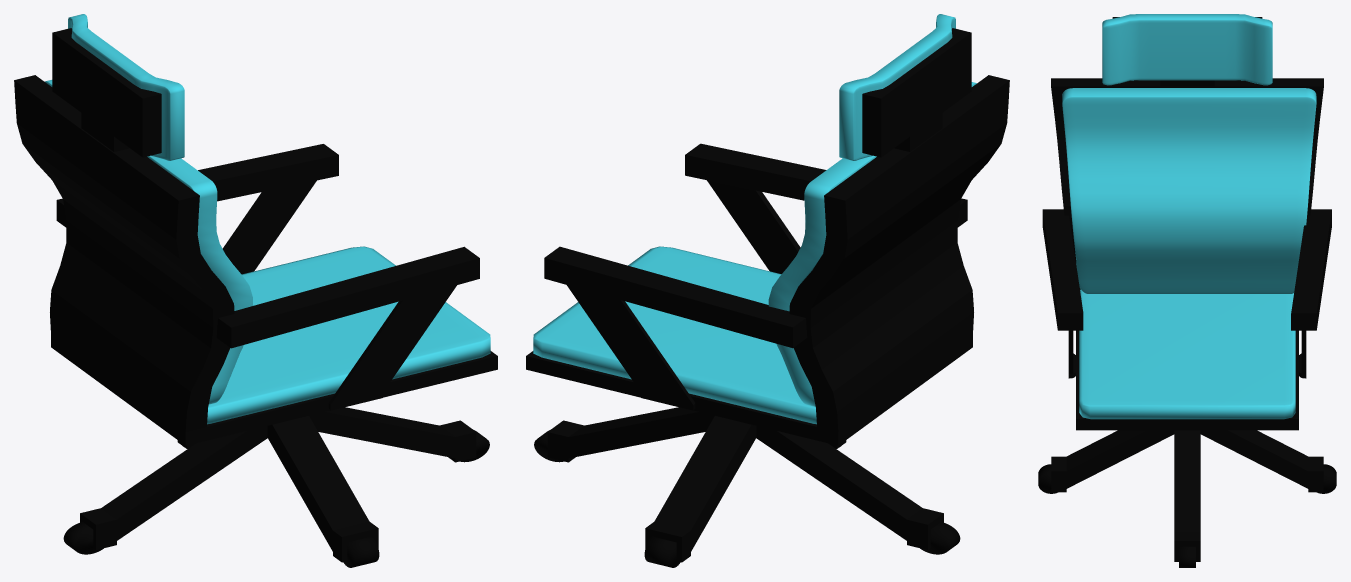
Rendered from office_chair.fbx.
3 renders of one model, left to right at view 1: azimuth 30°, elevation 25°; view 2: azimuth 150°, elevation 25°; view 3: azimuth 270°, elevation 25°, orthographic. The views are drawn at different scales.
Visible parts, largest first — view 1: Cylinder.002; view 2: Cylinder.002; view 3: Cylinder.002.
Boxes of the visible parts, left/top/right/bottom form: Cylinder.002: left=14, top=14, right=497, bottom=567; Cylinder.002: left=526, top=14, right=1009, bottom=567; Cylinder.002: left=1038, top=14, right=1336, bottom=567.
Bounding box in the file's own units: 40 × 45 × 30.
